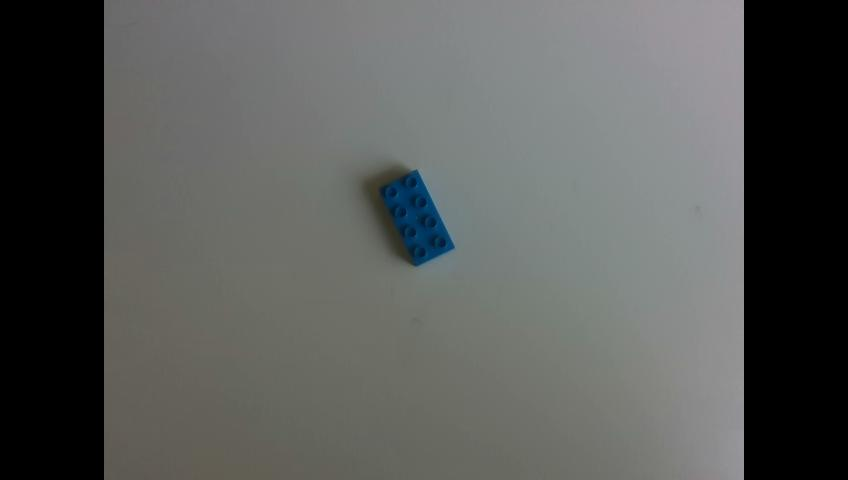4x2_blue: (382, 169, 455, 267)
